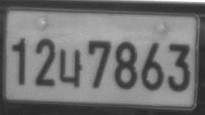1: (8, 37, 30, 86)
2: (34, 37, 57, 87)
3: (167, 42, 190, 92)
6: (140, 42, 165, 91)
7: (86, 38, 112, 89)
8: (114, 40, 138, 89)
나: (58, 48, 83, 87)
